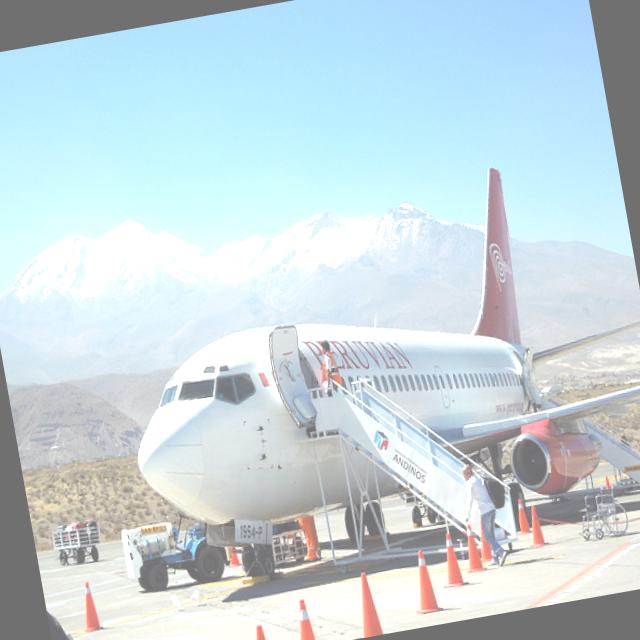Vehicle: (116, 510, 232, 597)
